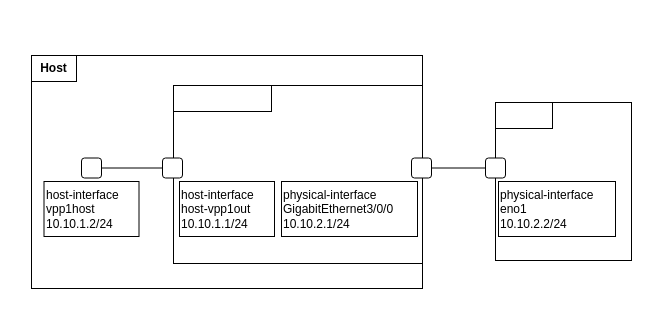
The diagram is 669 pixels wide and 335 high, and some of its shapes have lost their labels. The shapes that lost their labels are listed below. From the top down, each one's centre as x and y in pixels, then its label:
(x=222, y=98): VPP(vRouter)
(x=523, y=115): Server
